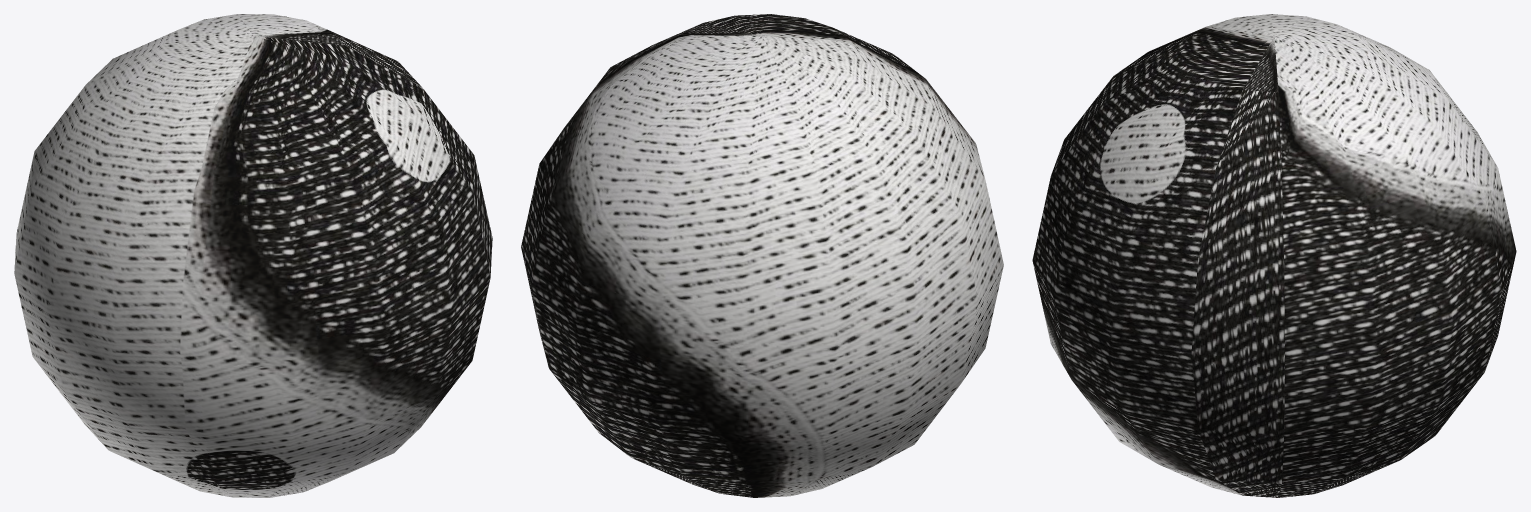
Rendered from yinyang.obj.
3 renders of one model, left to right at view 1: azimuth 30°, elevation 25°; view 2: azimuth 150°, elevation 25°; view 3: azimuth 270°, elevation 25°, orthographic.
Visible parts, largest first — view 1: yinyang_Sphere.001; view 2: yinyang_Sphere.001; view 3: yinyang_Sphere.001.
Part boxes in pixels (x1,y1,x2,y2): yinyang_Sphere.001: [14, 14, 492, 497]; yinyang_Sphere.001: [521, 14, 1003, 497]; yinyang_Sphere.001: [1032, 14, 1516, 497].
Bounding box in the file's own units: 2 × 2 × 2.
